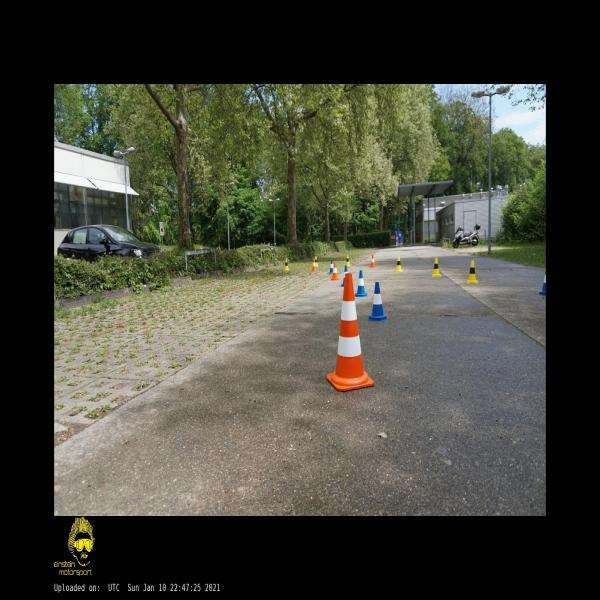blue_cone: (368, 283, 387, 321), (355, 270, 368, 297), (538, 269, 546, 295), (340, 265, 349, 286), (328, 259, 334, 274)
orange_cone: (326, 273, 374, 392), (330, 262, 340, 280), (370, 255, 376, 268), (311, 259, 317, 271)
yellow_cone: (466, 260, 478, 284), (432, 258, 441, 276), (395, 257, 402, 272), (344, 254, 351, 266), (284, 258, 290, 271), (314, 256, 319, 266)
